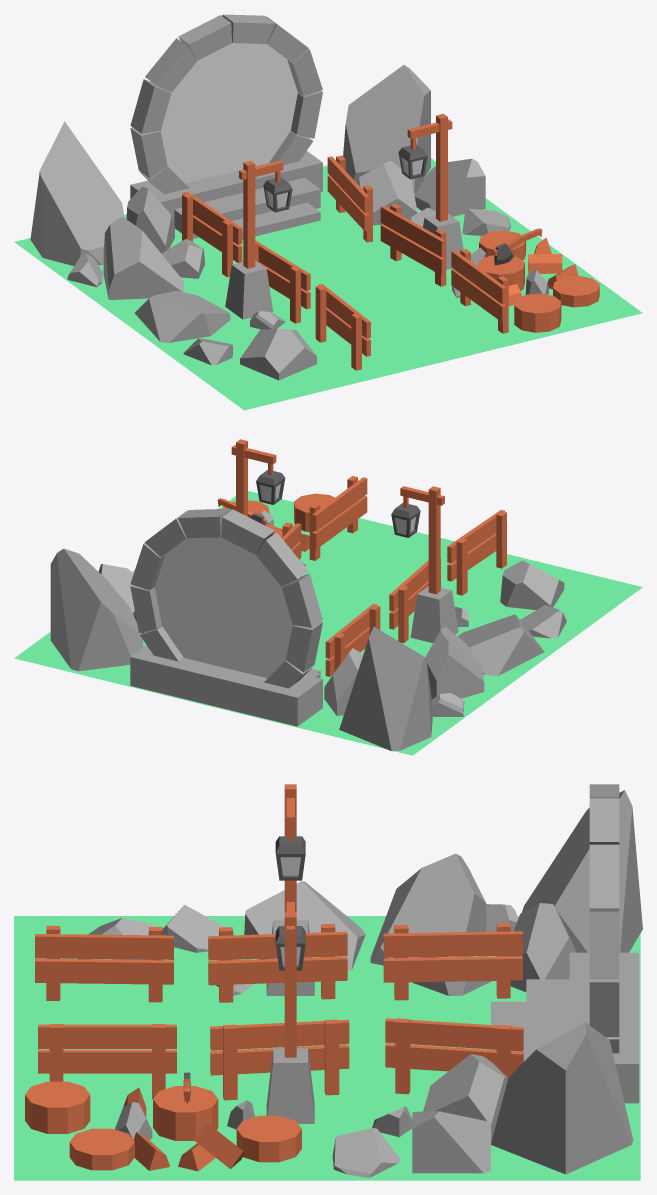
The model's file is portal.fbx.
3 renders of one model, top to bottom at view 1: azimuth 30°, elevation 25°; view 2: azimuth 150°, elevation 25°; view 3: azimuth 270°, elevation 25°, orthographic. The views are drawn at different scales.
Parts seen in each view (by area): view 1: Plane, portalLight, Cube.021, Cube.020, Cube.022, Cube.027, Cube.016, Cube.046, Cube.026, Cube.002, Cube.004, Cube (+32 smaller); view 2: Plane, portalLight, Cube.020, Cube.021, Cube.016, Cube.027, Cube.022, Cube.004, Cube, Cube.026, Cube.005, Cube.002 (+21 smaller); view 3: Plane, Cube.020, Cube.002, Cube.004, Cube.021, Cube, Cube.001, Cube.046, Cube.003, Cube.022, Cube.016, Cube.024 (+29 smaller).
Boxes of the visible parts, bbox=[...] form: Plane: bbox=[14, 158, 642, 410]; portalLight: bbox=[160, 43, 297, 183]; Cube.021: bbox=[30, 121, 124, 265]; Cube.020: bbox=[343, 65, 430, 194]; Cube.022: bbox=[103, 216, 184, 299]; Cube.027: bbox=[135, 290, 230, 342]; Cube.016: bbox=[130, 151, 322, 223]; Cube.046: bbox=[380, 204, 446, 286]; Cube.026: bbox=[240, 329, 316, 380]; Cube.002: bbox=[182, 191, 242, 277]; Cube.004: bbox=[315, 284, 370, 370]; Cube: bbox=[451, 249, 508, 333]; Plane: bbox=[14, 491, 642, 755]; portalLight: bbox=[155, 537, 292, 678]; Cube.020: bbox=[50, 548, 143, 671]; Cube.021: bbox=[339, 626, 432, 751]; Cube.016: bbox=[130, 645, 322, 726]; Cube.027: bbox=[458, 614, 544, 675]; Cube.022: bbox=[425, 626, 484, 699]; Cube.004: bbox=[447, 510, 506, 595]; Cube: bbox=[309, 476, 367, 560]; Cube.026: bbox=[500, 560, 564, 609]; Cube.005: bbox=[410, 586, 458, 642]; Cube.002: bbox=[325, 603, 380, 676]; Plane: bbox=[14, 916, 640, 1180]; Cube.020: bbox=[491, 1022, 633, 1174]; Cube.002: bbox=[383, 923, 522, 1000]; Cube.004: bbox=[35, 925, 173, 1002]; Cube.021: bbox=[522, 790, 642, 952]; Cube: bbox=[38, 1024, 176, 1099]; Cube.001: bbox=[385, 1018, 523, 1094]; Cube.046: bbox=[210, 1019, 349, 1100]; Cube.003: bbox=[208, 923, 347, 1002]; Cube.022: bbox=[370, 853, 486, 965]; Cube.016: bbox=[569, 952, 639, 1103]; Cube.024: bbox=[412, 1111, 490, 1173].
Size of the model in its own units: 400 by 177 by 401.
